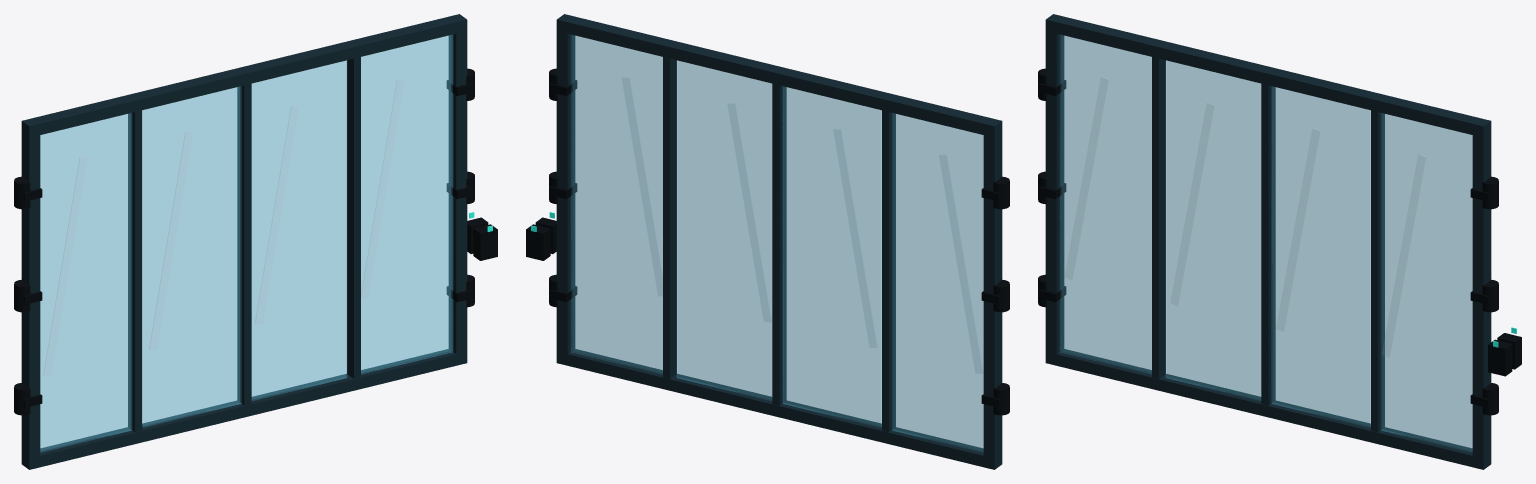
Rendered from screen_window_4pan_2level.glb.
3 renders of one model, left to right at view 1: azimuth 30°, elevation 25°; view 2: azimuth 150°, elevation 25°; view 3: azimuth 330°, elevation 25°, orthographic.
Visible parts, largest first — view 1: Glass_Pane_2, Glass_Pane_3, Glass_Pane_4, Glass_Pane_1, Frame_Top, Frame_Bottom, Frame_Right, Frame_Left, Mullion_2, Mullion_3, Mullion_1, Reflection_Stripe_1 (+4 smaller); view 2: Glass_Pane_2, Glass_Pane_3, Glass_Pane_4, Glass_Pane_1, Frame_Top, Frame_Bottom, Frame_Right, Frame_Left, Mullion_2, Mullion_3, Mullion_1, Control_Back_Box; view 3: Glass_Pane_3, Glass_Pane_2, Glass_Pane_1, Glass_Pane_4, Frame_Top, Frame_Bottom, Frame_Left, Frame_Right, Mullion_2, Mullion_1, Mullion_3, Reflection_Stripe_4 (+4 smaller).
Boxes of the visible parts, left/top/right/bottom form: Glass_Pane_2: left=142, top=86, right=241, bottom=427; Glass_Pane_3: left=251, top=60, right=347, bottom=400; Glass_Pane_4: left=361, top=34, right=453, bottom=374; Glass_Pane_1: left=40, top=113, right=131, bottom=452; Frame_Top: left=21, top=14, right=467, bottom=137; Frame_Bottom: left=21, top=349, right=467, bottom=469; Frame_Right: left=448, top=31, right=467, bottom=354; Frame_Left: left=21, top=132, right=40, bottom=458; Mullion_2: left=237, top=83, right=251, bottom=405; Mullion_3: left=347, top=57, right=360, bottom=378; Mullion_1: left=128, top=110, right=141, bottom=432; Reflection_Stripe_1: left=44, top=157, right=87, bottom=375; Glass_Pane_2: left=782, top=86, right=881, bottom=427; Glass_Pane_3: left=676, top=60, right=772, bottom=400; Glass_Pane_4: left=571, top=35, right=662, bottom=374; Glass_Pane_1: left=892, top=113, right=983, bottom=452; Frame_Top: left=556, top=14, right=1002, bottom=137; Frame_Bottom: left=556, top=349, right=1002, bottom=469; Frame_Right: left=556, top=31, right=575, bottom=354; Frame_Left: left=983, top=132, right=1002, bottom=458; Mullion_2: left=772, top=83, right=786, bottom=405; Mullion_3: left=663, top=57, right=676, bottom=378; Mullion_1: left=882, top=110, right=895, bottom=432; Control_Back_Box: left=526, top=224, right=550, bottom=260; Glass_Pane_3: left=1271, top=86, right=1370, bottom=427; Glass_Pane_2: left=1165, top=60, right=1261, bottom=400; Glass_Pane_1: left=1060, top=35, right=1151, bottom=374; Glass_Pane_4: left=1381, top=113, right=1472, bottom=452; Frame_Top: left=1045, top=14, right=1491, bottom=137; Frame_Bottom: left=1045, top=349, right=1491, bottom=469; Frame_Left: left=1045, top=31, right=1064, bottom=354; Frame_Right: left=1472, top=132, right=1491, bottom=458; Mullion_2: left=1261, top=83, right=1275, bottom=405; Mullion_1: left=1152, top=57, right=1165, bottom=378; Mullion_3: left=1371, top=110, right=1384, bottom=432; Reflection_Stripe_4: left=1382, top=154, right=1425, bottom=357.
Size of the model in its own units: 4.33 by 3 by 0.3008.
